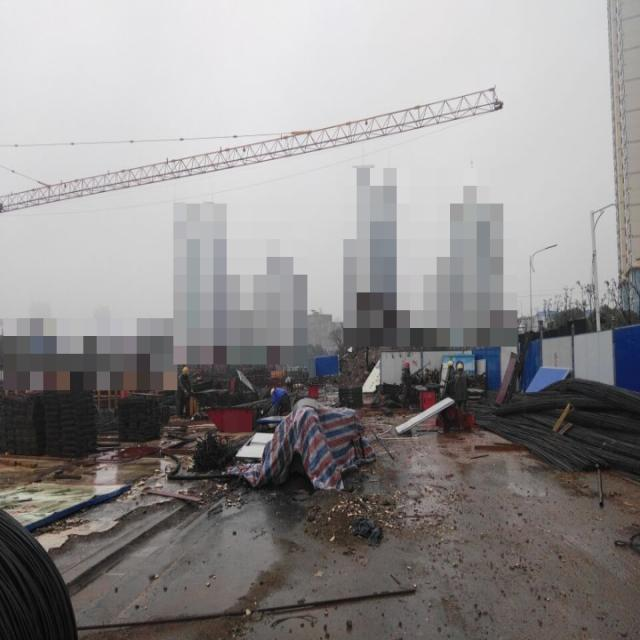crane: (0, 87, 503, 212)
